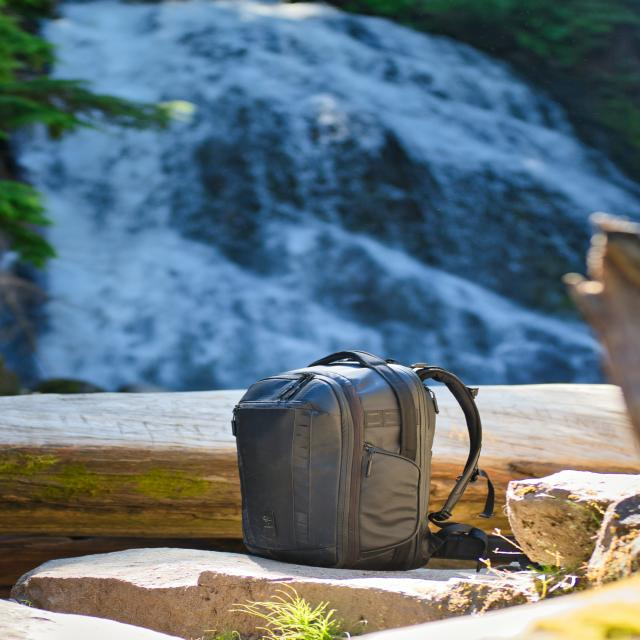backpack: (239, 348, 481, 568)
